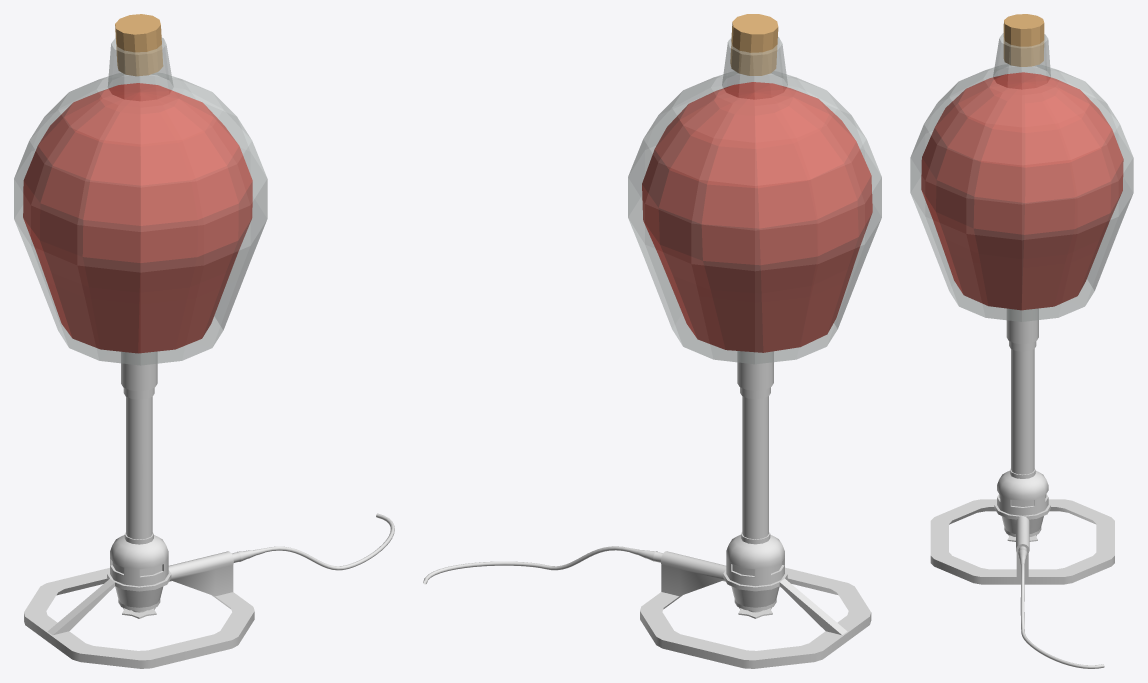
File: Bunsen burner.fbx
3 renders of one model, left to right at view 1: azimuth 30°, elevation 25°; view 2: azimuth 150°, elevation 25°; view 3: azimuth 270°, elevation 25°, orthographic. The views are drawn at different scales.
Visible parts, largest first — view 1: model1:mesh113547677, model1:mesh188106568, Bunsen_Burner, model1:mesh688645330, Pipe; view 2: model1:mesh113547677, model1:mesh188106568, Bunsen_Burner, model1:mesh688645330, Pipe; view 3: model1:mesh113547677, model1:mesh188106568, Bunsen_Burner, model1:mesh688645330, Pipe.
Boxes of the visible parts, x1,y1,x2,y2 form: model1:mesh113547677: (14, 38, 267, 365); model1:mesh188106568: (23, 83, 252, 353); Bunsen_Burner: (24, 352, 264, 668); model1:mesh688645330: (115, 14, 163, 76); Pipe: (264, 513, 394, 570); model1:mesh113547677: (628, 37, 881, 364); model1:mesh188106568: (642, 82, 872, 352); Bunsen_Burner: (629, 351, 871, 668); model1:mesh688645330: (730, 14, 778, 75); Pipe: (423, 546, 630, 584); model1:mesh113547677: (910, 33, 1133, 321); model1:mesh188106568: (921, 72, 1123, 310); Bunsen_Burner: (930, 308, 1114, 584); model1:mesh688645330: (1003, 14, 1044, 66); Pipe: (1020, 563, 1104, 668).
Size of the model in its own units: 21.92 by 31.44 by 12.11.
